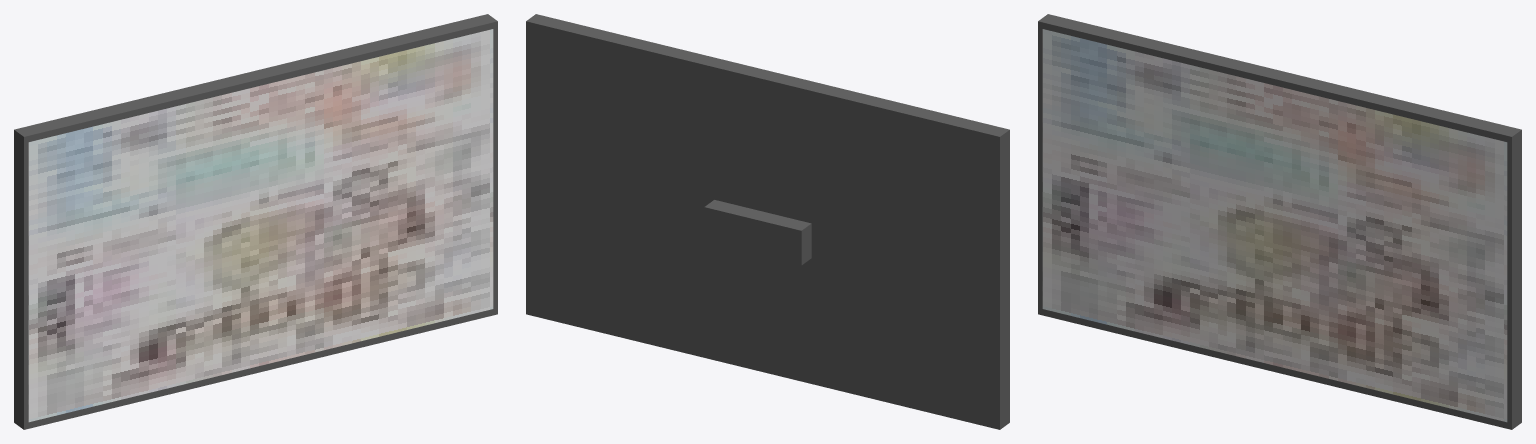
Rendered from Idea board.fbx.
3 views of the same model, side by side, from view 1: azimuth 30°, elevation 25°; view 2: azimuth 150°, elevation 25°; view 3: azimuth 330°, elevation 25° (orthographic).
Visible parts, largest first — view 1: Cube.069; view 2: Cube.069; view 3: Cube.069.
Part boxes in pixels (bbox=[...]): Cube.069: bbox=[14, 14, 497, 429]; Cube.069: bbox=[526, 14, 1009, 429]; Cube.069: bbox=[1038, 14, 1521, 429].
Bounding box in the file's own units: 169 × 100 × 12.4.
